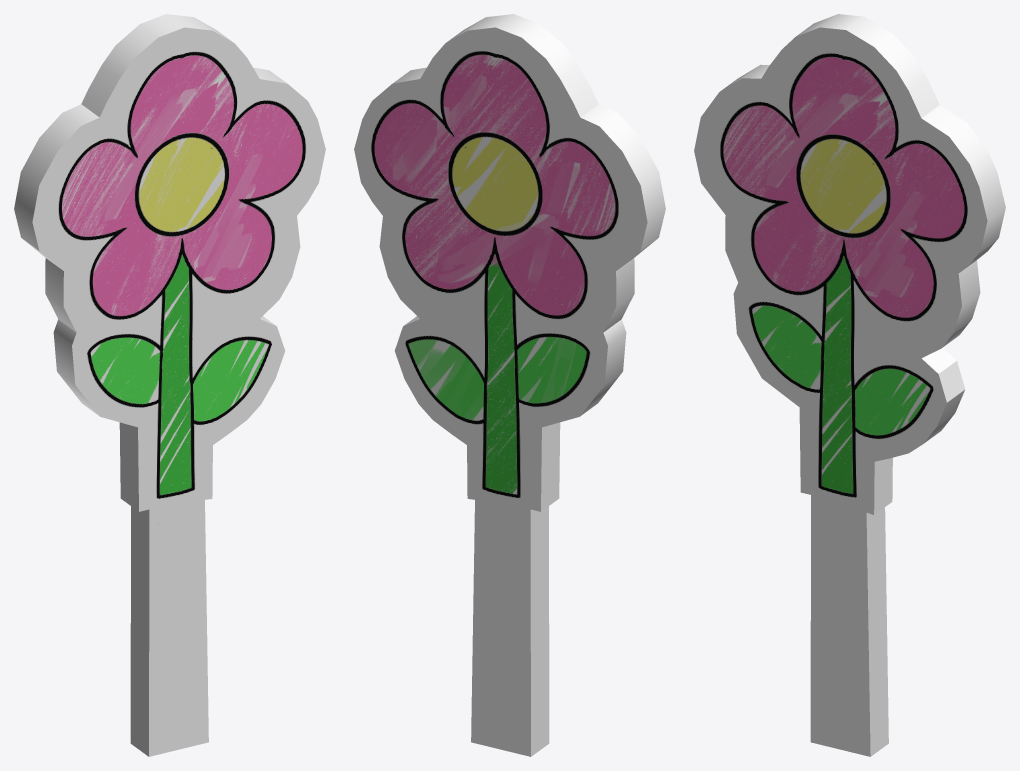
Rendered from flower.fbx.
The picture shows the model from 3 angles, left to right: view 1: azimuth 30°, elevation 25°; view 2: azimuth 150°, elevation 25°; view 3: azimuth 330°, elevation 25°; orthographic projection.
Visible parts, largest first — view 1: flower; view 2: flower; view 3: flower.
Boxes of the visible parts, left/top/right/bottom form: flower: left=14, top=14, right=325, bottom=756; flower: left=354, top=14, right=665, bottom=756; flower: left=694, top=14, right=1005, bottom=756.
Bounding box in the file's own units: 7.55 × 17.71 × 0.8179.
